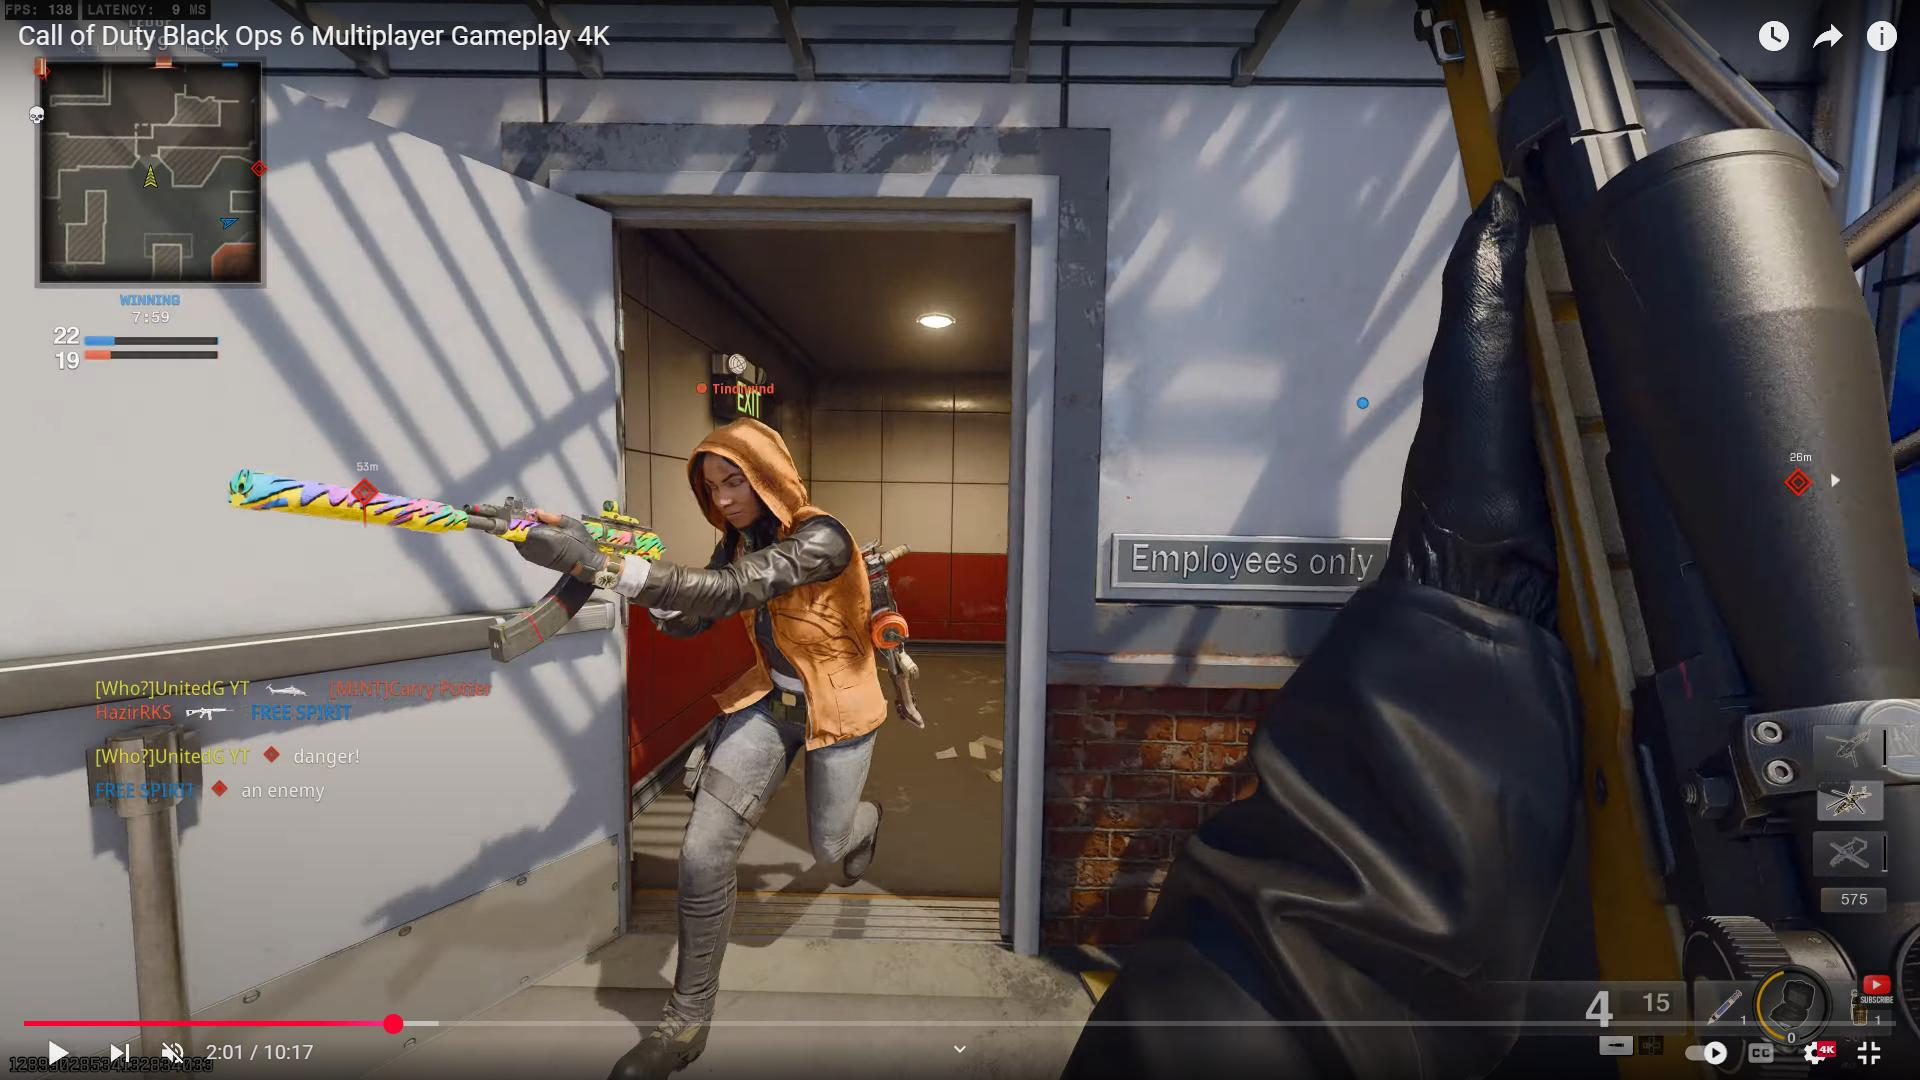Enemy: (364, 332, 965, 1034)
